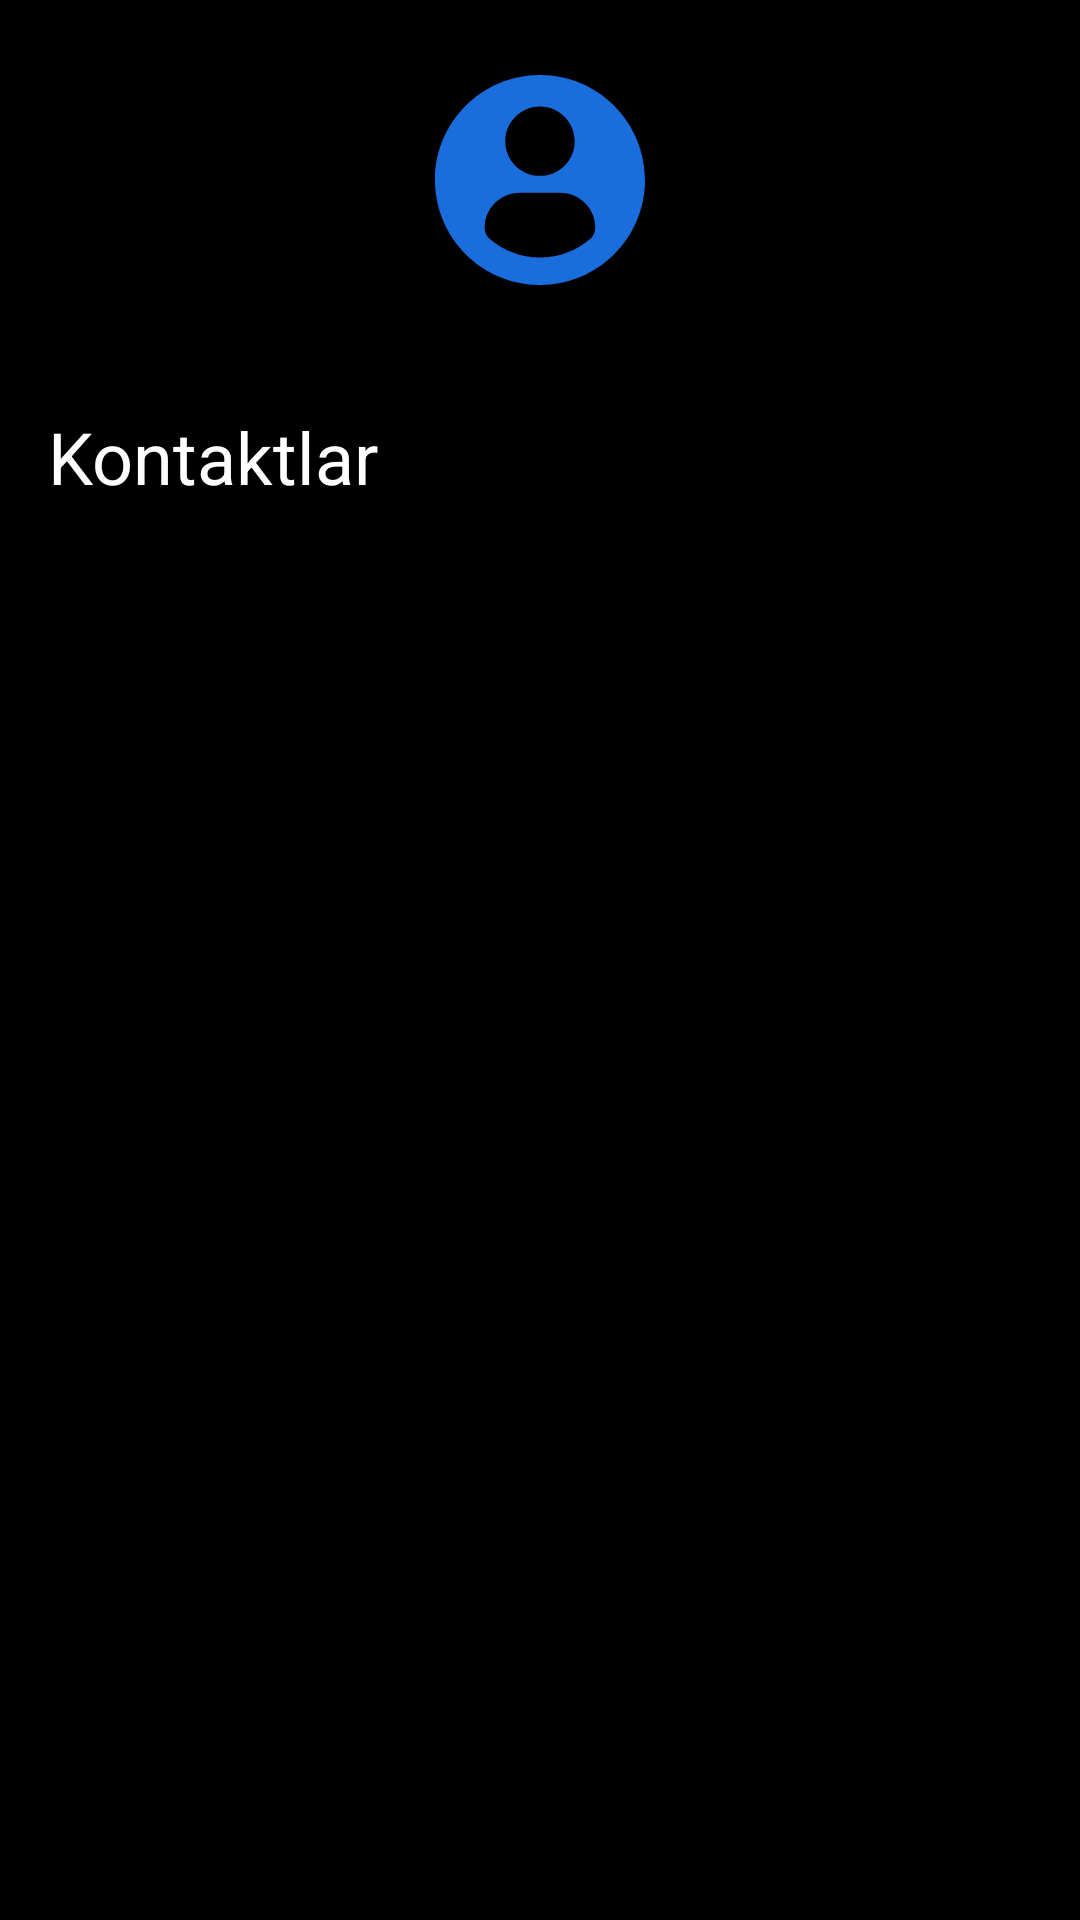

Named icons in this screenshot (1080 x 1920) and their centers, (x,y):
profile: (540,180)
